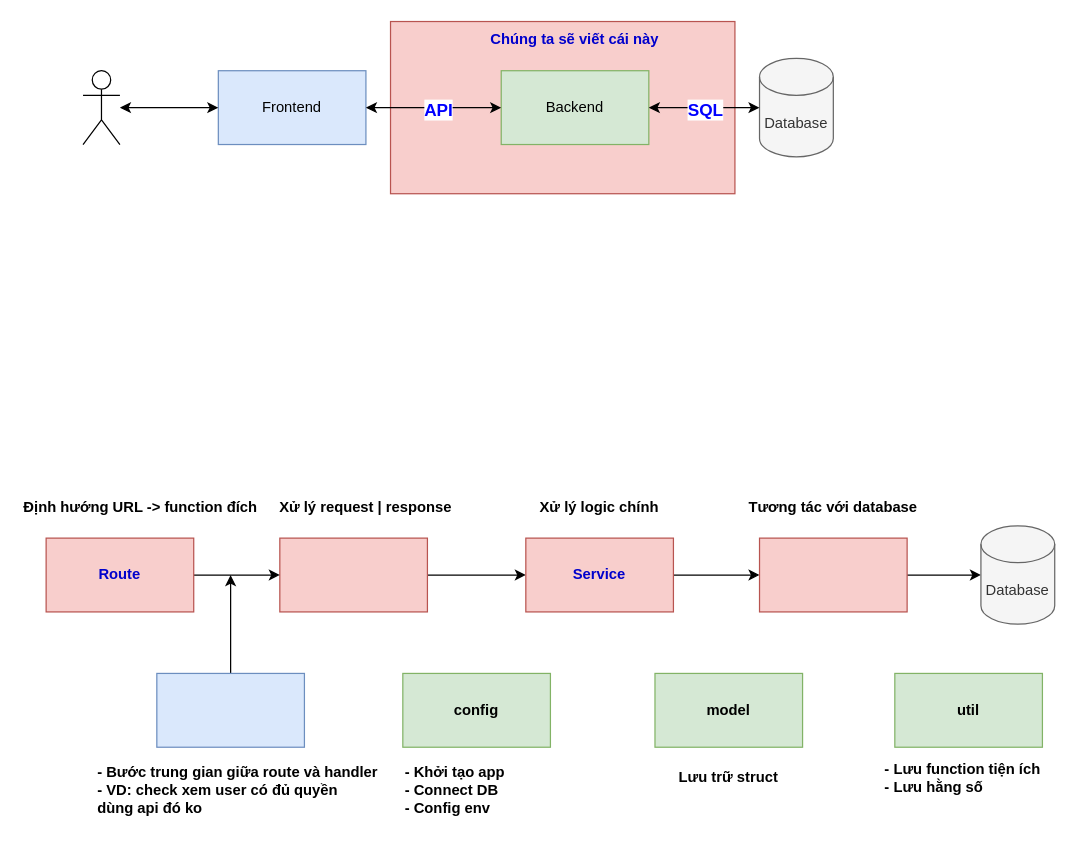
The diagram is 1087 pixels wide and 855 high, and some of its shapes have lost their labels. The shapes that lost their labels are listed below. From the top down, each one's centre as x and y in pixels, then its label:
At pixel 101 107: "User".
At pixel 353 574: "Handler".
At pixel 832 574: "Repository".
At pixel 230 709: "Middleware".
